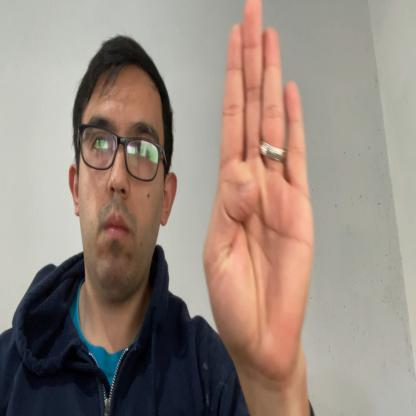B: (203, 0, 315, 381)
